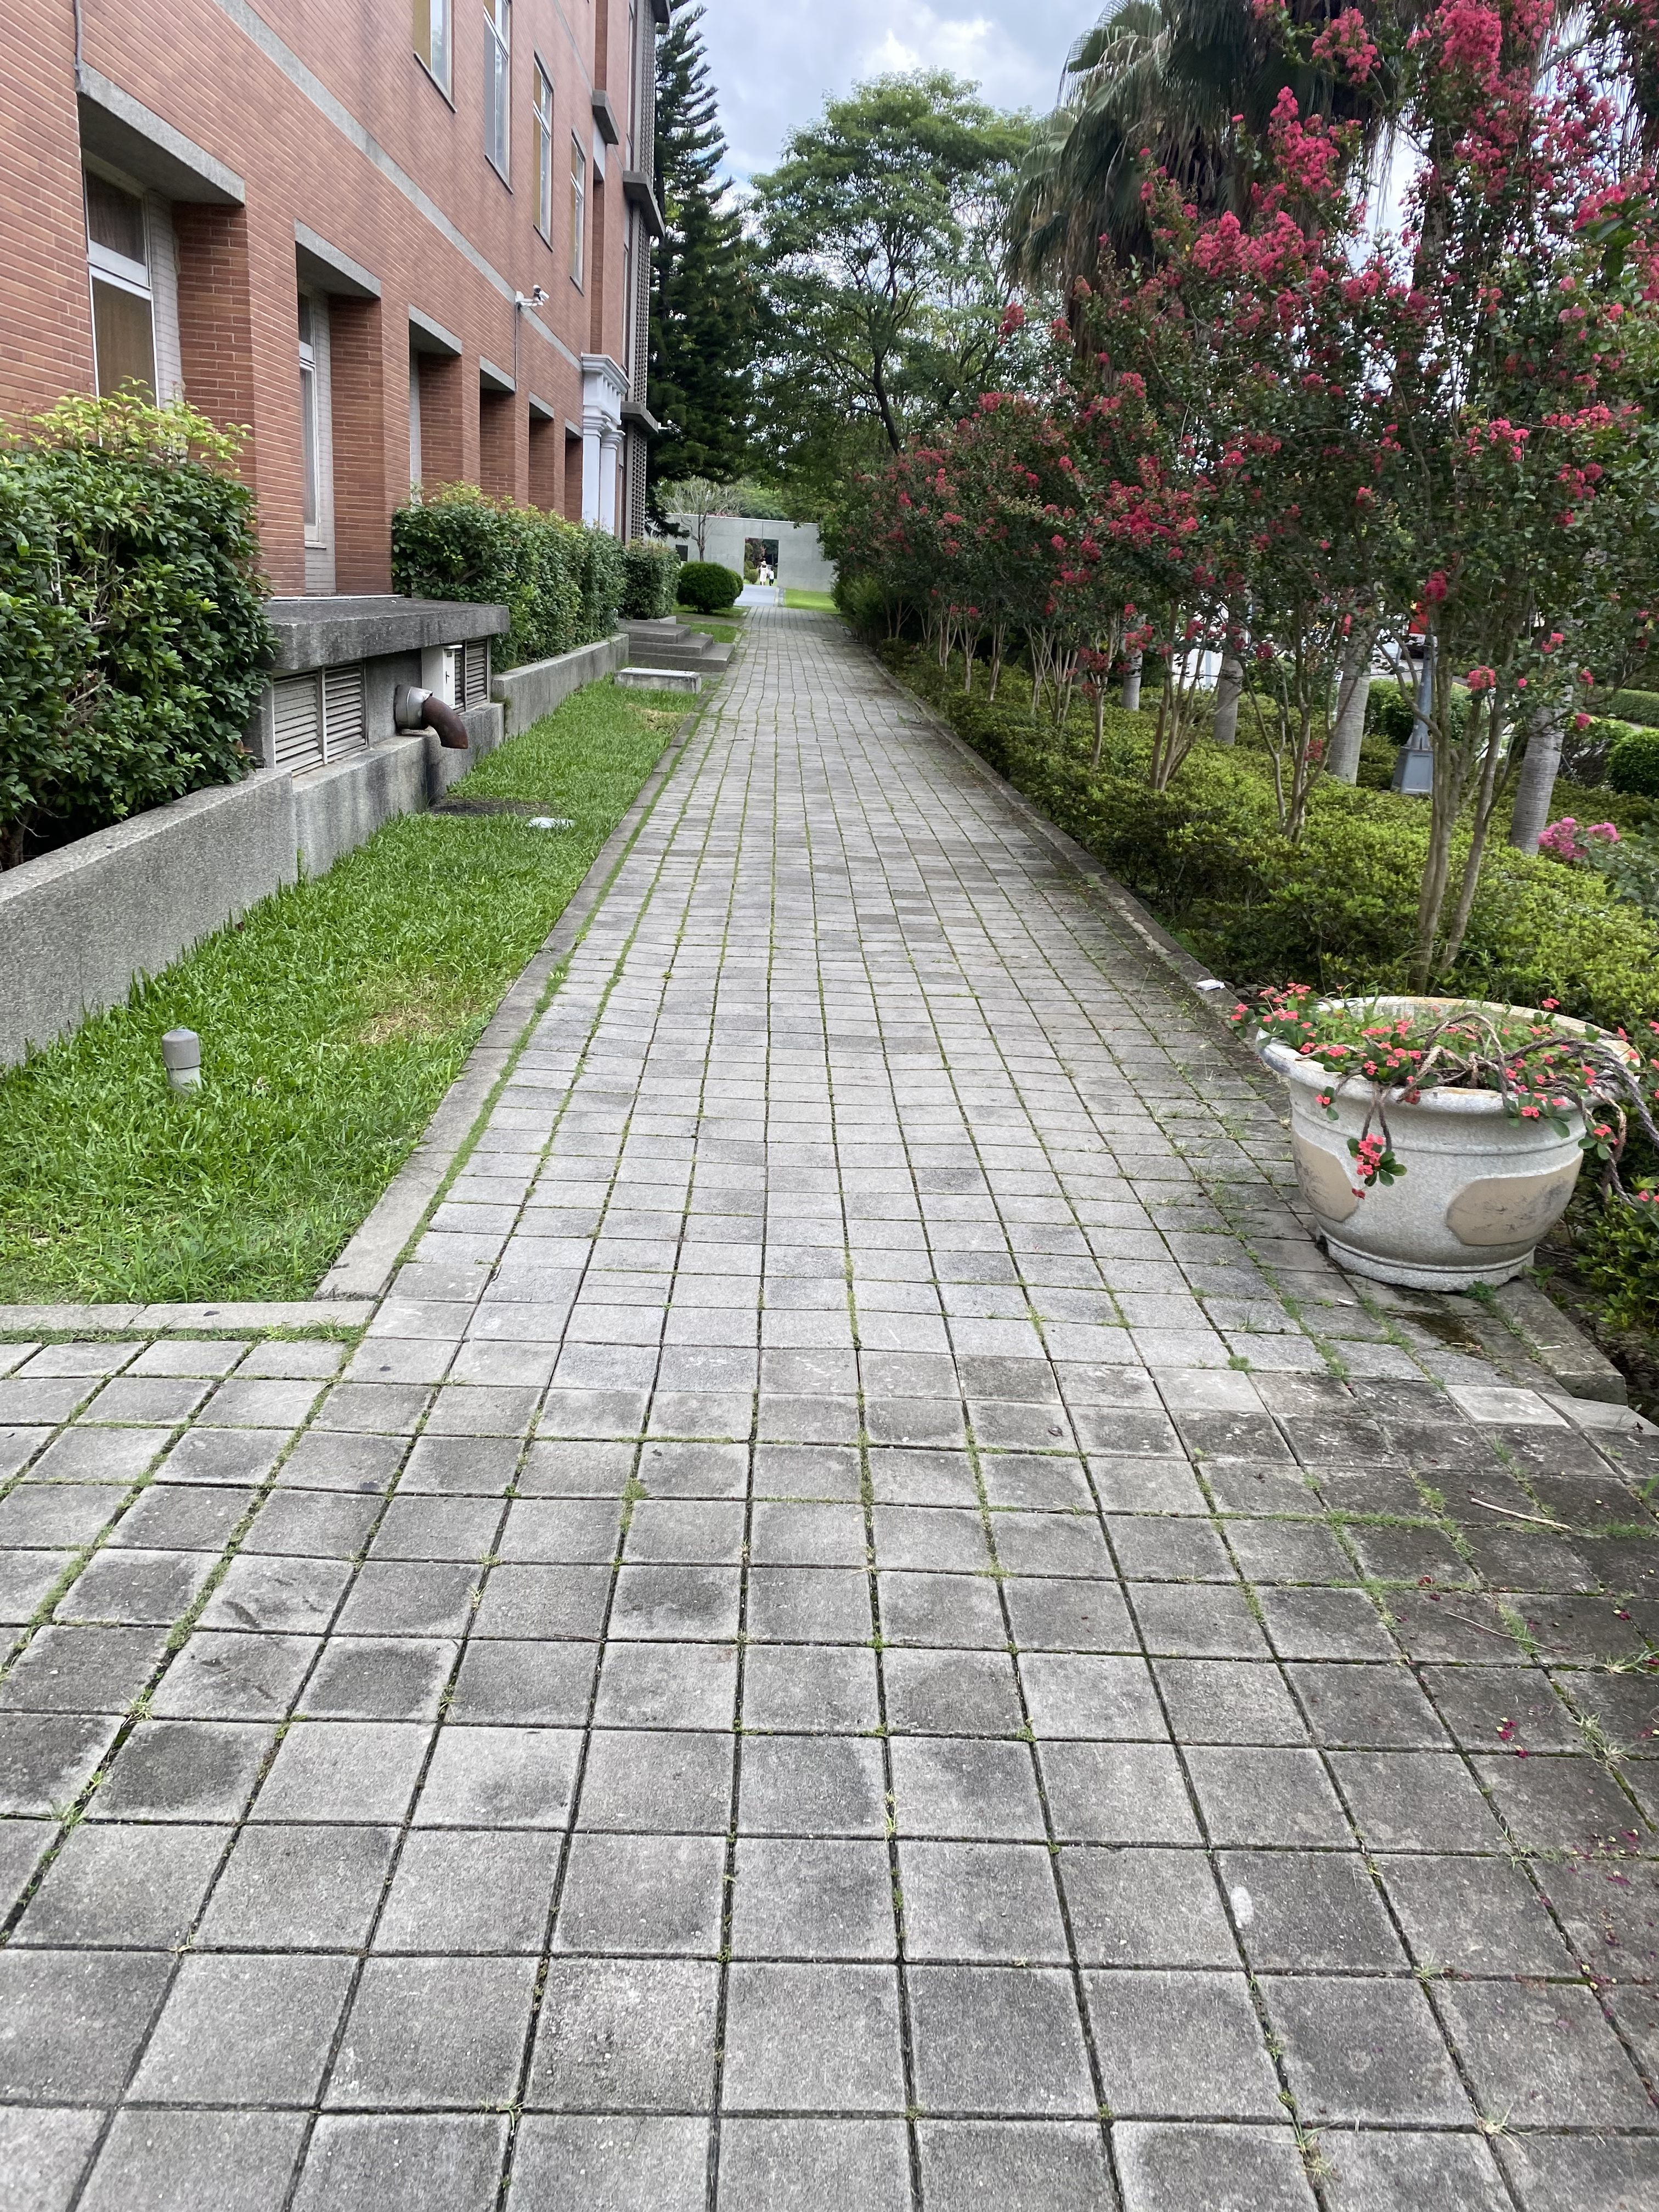0: (7, 1212, 1080, 2212)
sidewalk: (321, 554, 1643, 2212)
